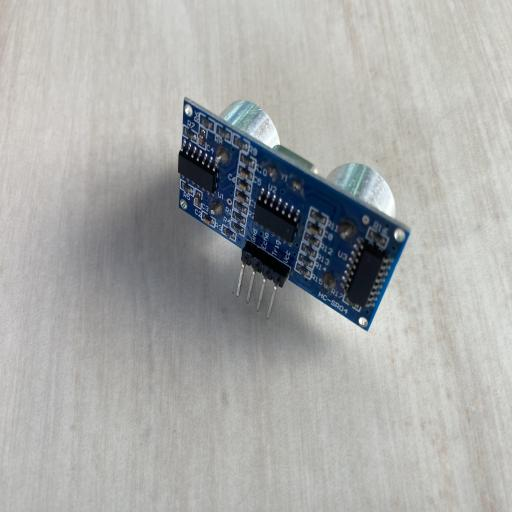Ultrasonic Sensor: (177, 95, 411, 333)
